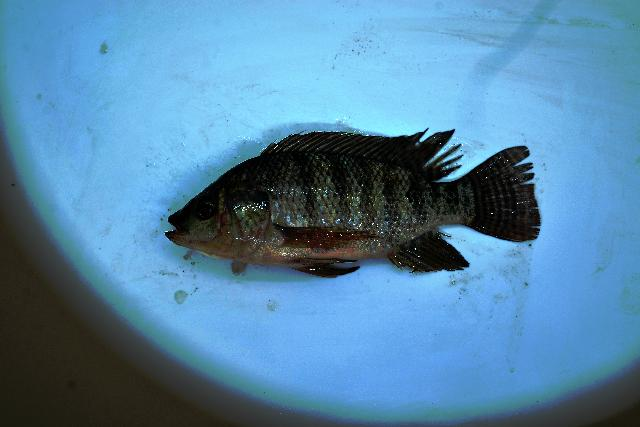Columnaris Disease: (165, 131, 540, 277)
